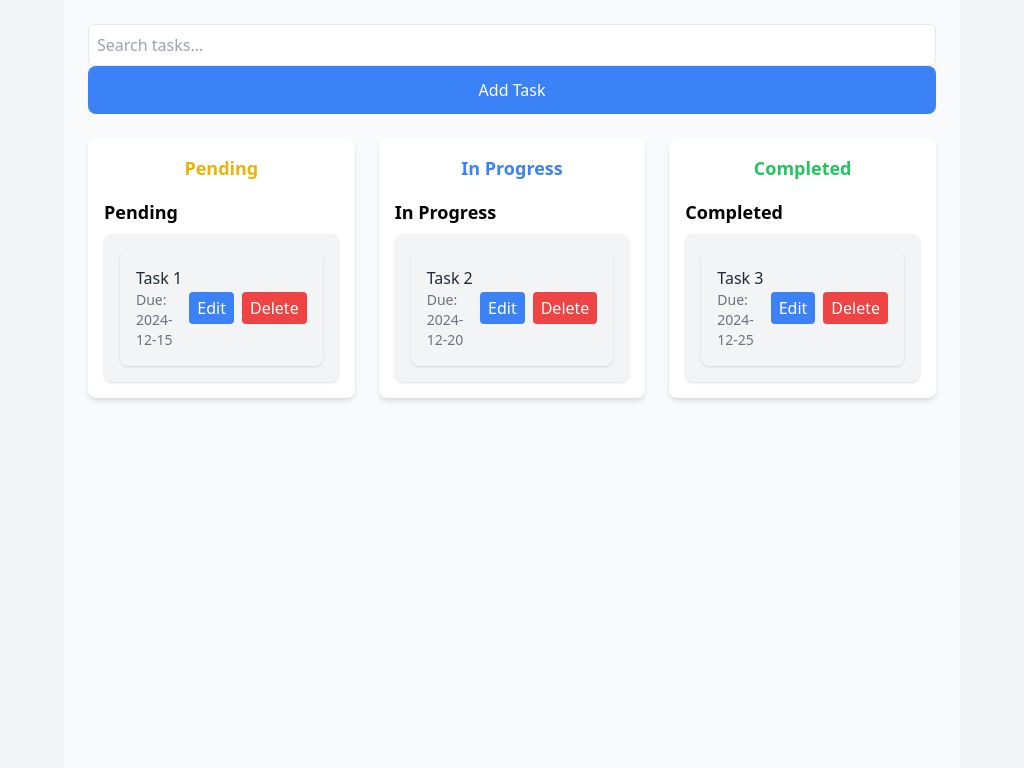
Test: TaskBoard Component › opens Add Task modal on button click
This screenshot has width=1024, height=768.
Click the button "Add Task": (512, 90) top-left (88, 66), bottom-right (936, 114)
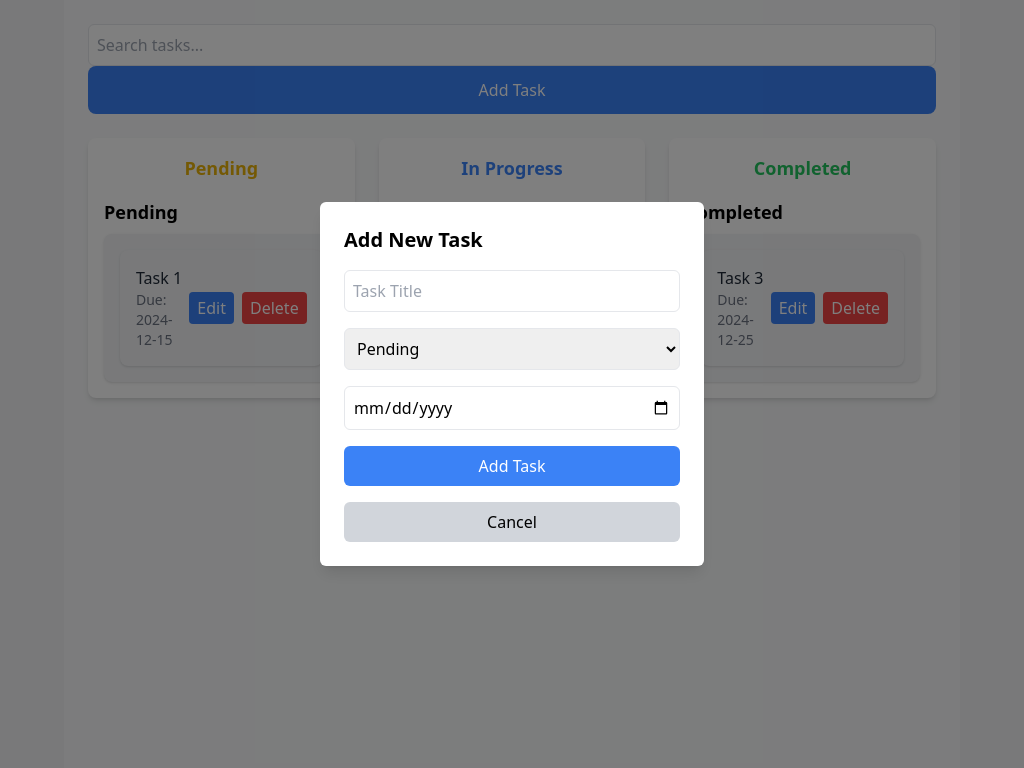
Result: the heading "Add New Task" is shown at top-left (344, 226), bottom-right (483, 253)
